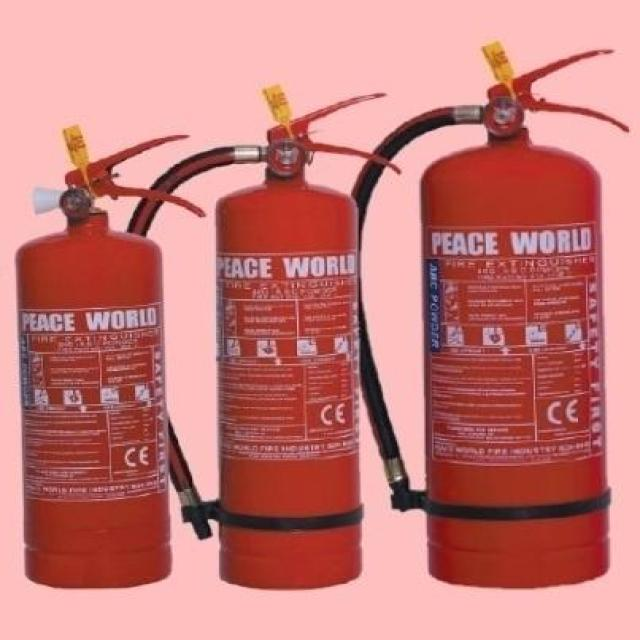fire_extinguisher: (338, 38, 630, 593), (110, 82, 401, 593), (9, 121, 210, 591)
